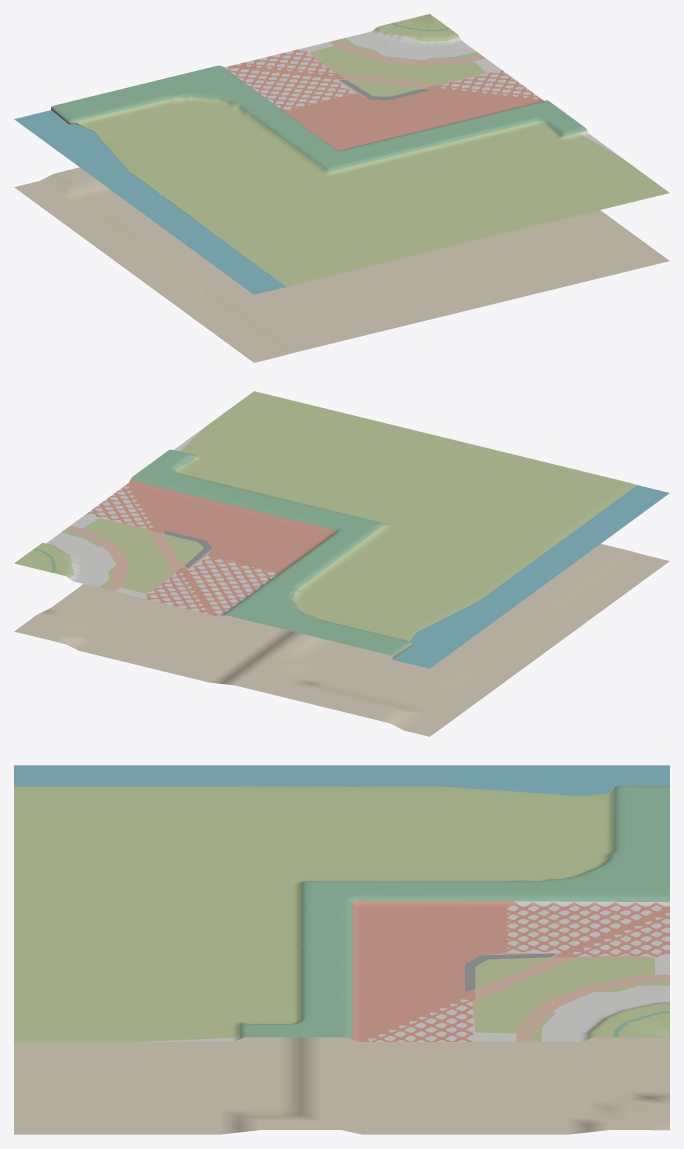
The picture shows the model from 3 angles, top to bottom: view 1: azimuth 30°, elevation 25°; view 2: azimuth 150°, elevation 25°; view 3: azimuth 270°, elevation 25°; orthographic projection. The views are drawn at different scales.
Parts seen in each view (by area): view 1: s_-12_0__grass, s_-12_0__soil, s_-12_0__green_court, s_-12_0__red_court, s_-12_0__water, s_-12_0__stone_paving, s_-12_0__brick_paving; view 2: s_-12_0__grass, s_-12_0__soil, s_-12_0__red_court, s_-12_0__green_court, s_-12_0__water, s_-12_0__stone_paving, s_-12_0__brick_paving; view 3: s_-12_0__grass, s_-12_0__soil, s_-12_0__red_court, s_-12_0__green_court, s_-12_0__water, s_-12_0__stone_paving, s_-12_0__brick_paving, s_-12_0__asphalt.
Part boxes in pixels (x1,y1,x2,y2): s_-12_0__grass: (72, 14, 669, 286); s_-12_0__soil: (14, 167, 669, 362); s_-12_0__green_court: (51, 22, 587, 171); s_-12_0__red_court: (227, 49, 543, 150); s_-12_0__water: (14, 110, 285, 294); s_-12_0__stone_paving: (223, 29, 621, 157); s_-12_0__brick_paving: (310, 39, 486, 98); s_-12_0__grass: (14, 391, 636, 641); s_-12_0__soil: (14, 544, 669, 736); s_-12_0__red_court: (86, 480, 336, 616); s_-12_0__green_court: (33, 449, 413, 656); s_-12_0__water: (393, 485, 669, 668); s_-12_0__stone_paving: (46, 426, 277, 616); s_-12_0__brick_paving: (65, 518, 211, 593); s_-12_0__grass: (14, 786, 669, 1041); s_-12_0__soil: (14, 1037, 669, 1134); s_-12_0__red_court: (352, 901, 669, 1041); s_-12_0__green_court: (239, 786, 669, 1039); s_-12_0__water: (14, 765, 669, 795); s_-12_0__stone_paving: (143, 901, 669, 1041); s_-12_0__brick_paving: (471, 952, 669, 1041); s_-12_0__asphalt: (465, 953, 555, 991).
Size of the model in its own units: 128 by 21.14 by 128.
